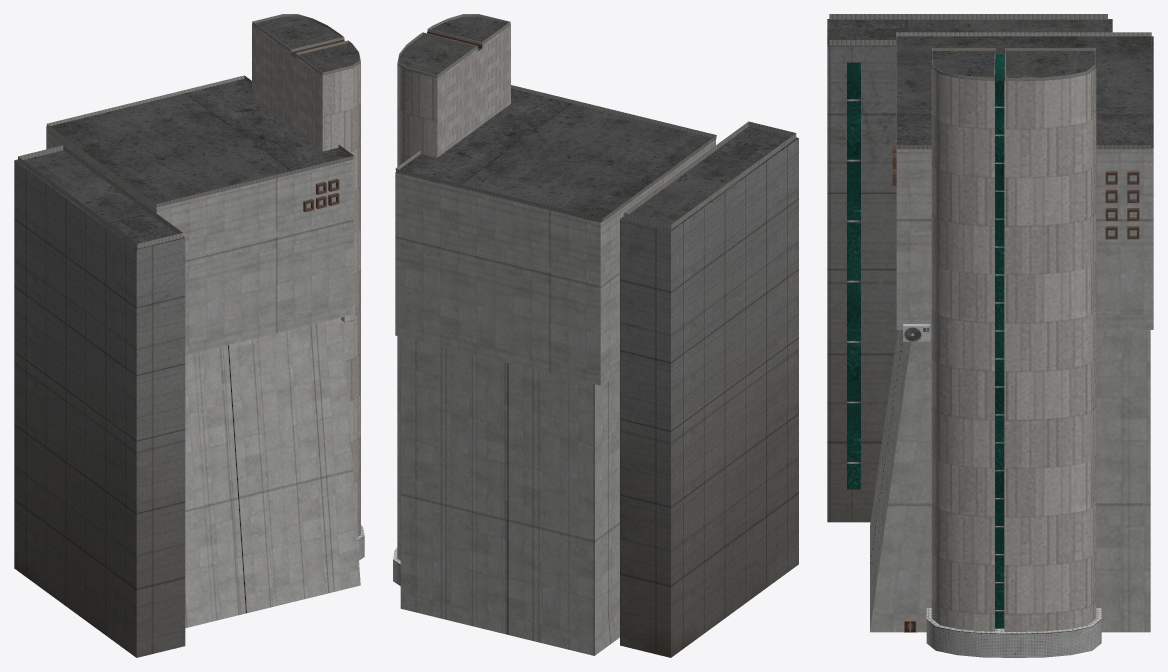
The model's file is SM_Building.fbx.
3 views of the same model, side by side, from view 1: azimuth 30°, elevation 25°; view 2: azimuth 150°, elevation 25°; view 3: azimuth 270°, elevation 25° (orthographic). The views are drawn at different scales.
Parts seen in each view (by area): view 1: SM_Building; view 2: SM_Building; view 3: SM_Building.
Boxes of the visible parts, x1,y1,x2,y2 form: SM_Building: [14, 14, 364, 657]; SM_Building: [393, 14, 798, 657]; SM_Building: [827, 14, 1153, 657].
Bounding box in the file's own units: 61.94 × 102 × 52.26.
